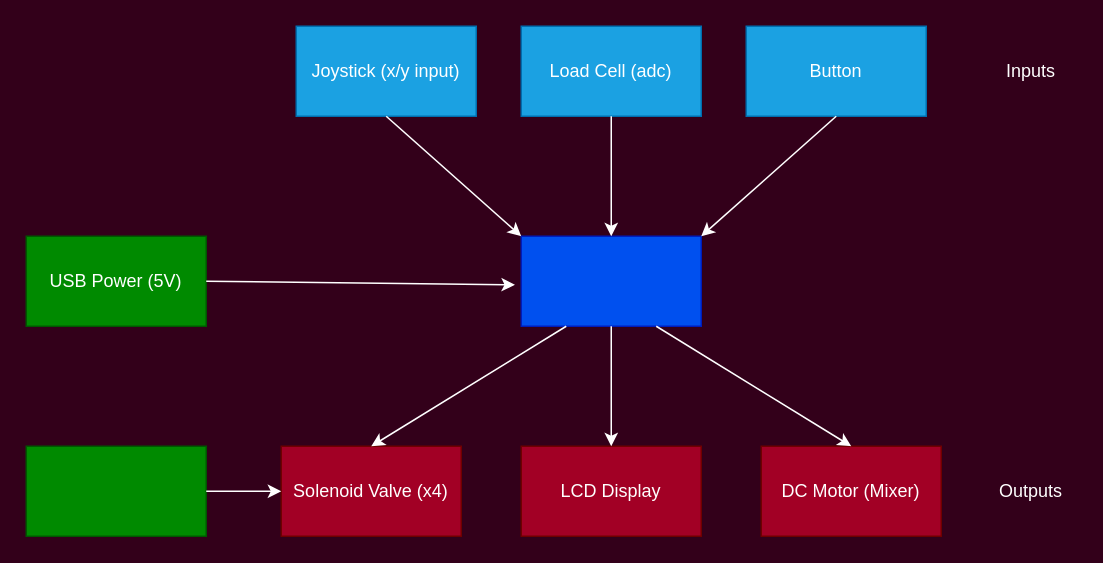
The diagram is 1103 pixels wide and 563 high, and some of its shapes have lost their labels. The centre of each missing label's shape, as x and y in pixels:
"12V DC Power Adapter" belongs at point (115, 490).
"ATMega328PB" belongs at point (610, 280).
